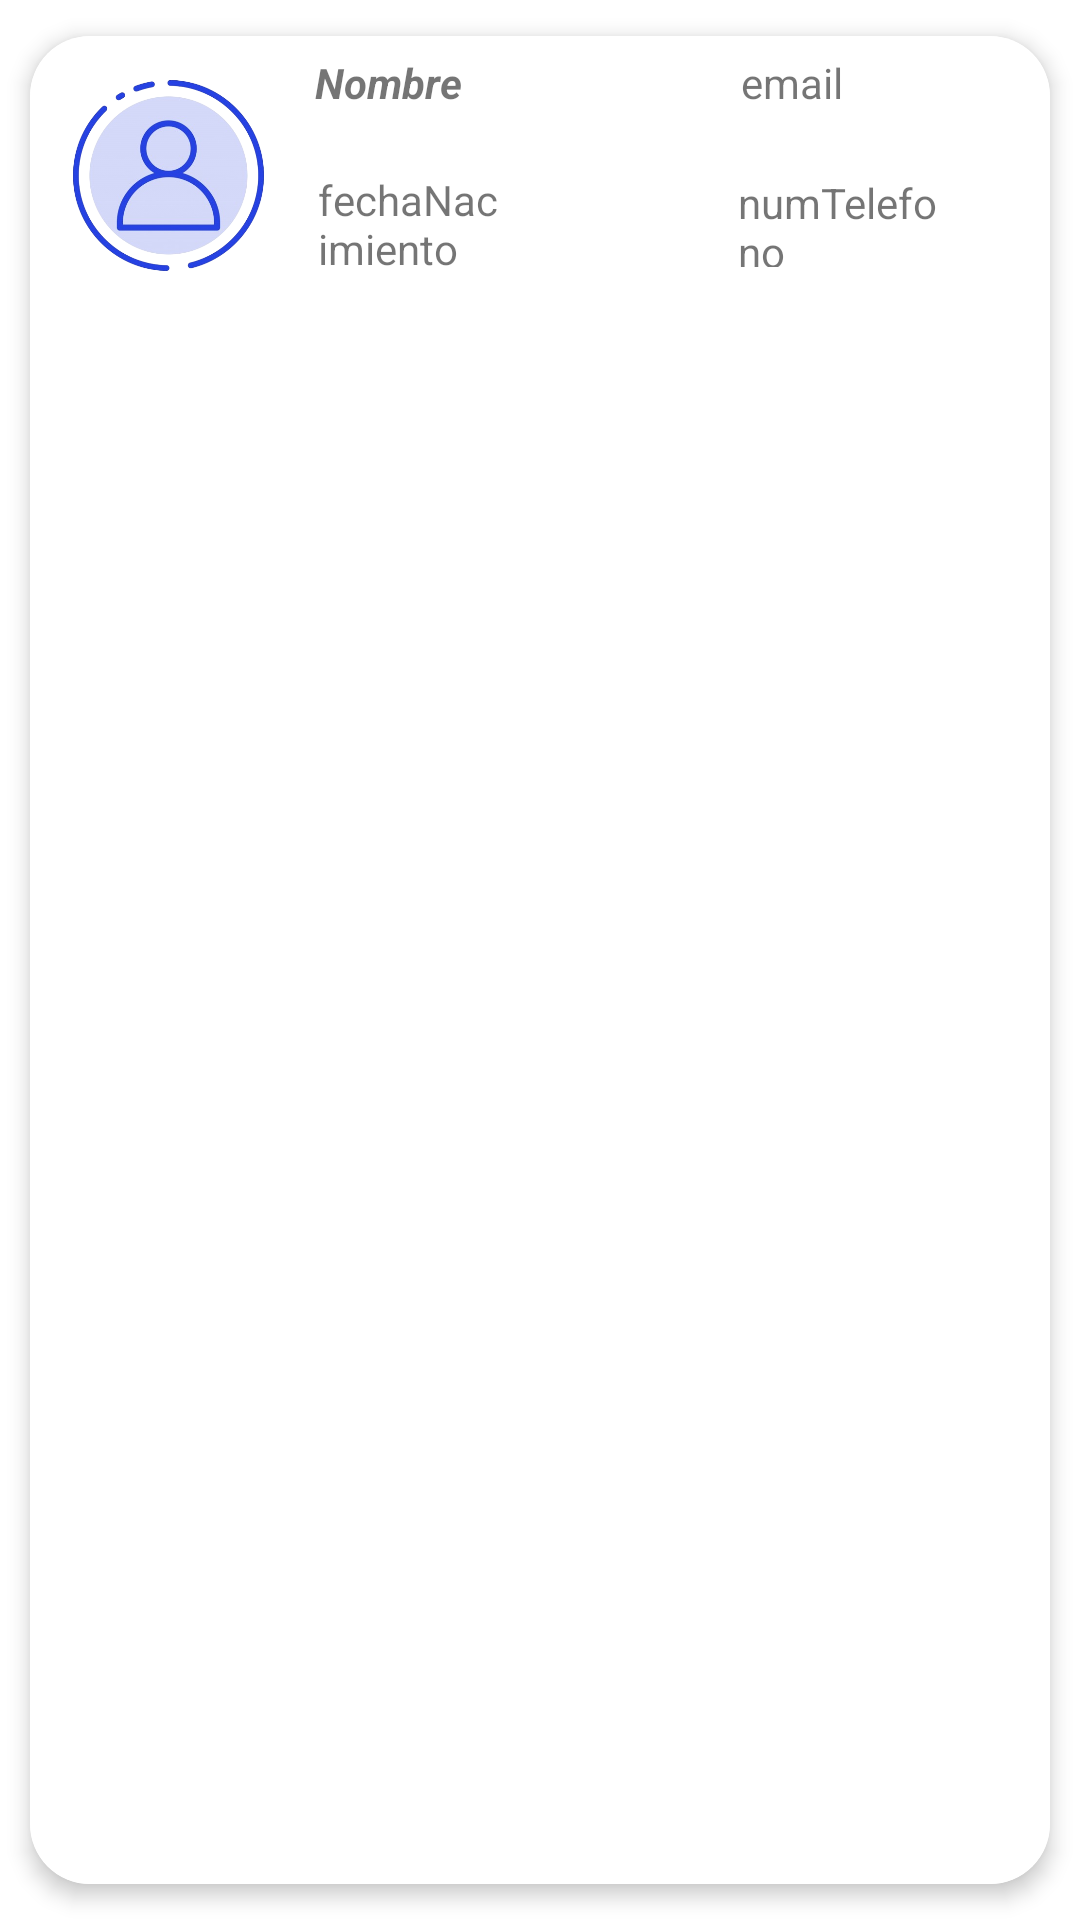

Where to tap for icons on this 1080×1920 app screen, as (x,y):
contactoicon: (168,175)
